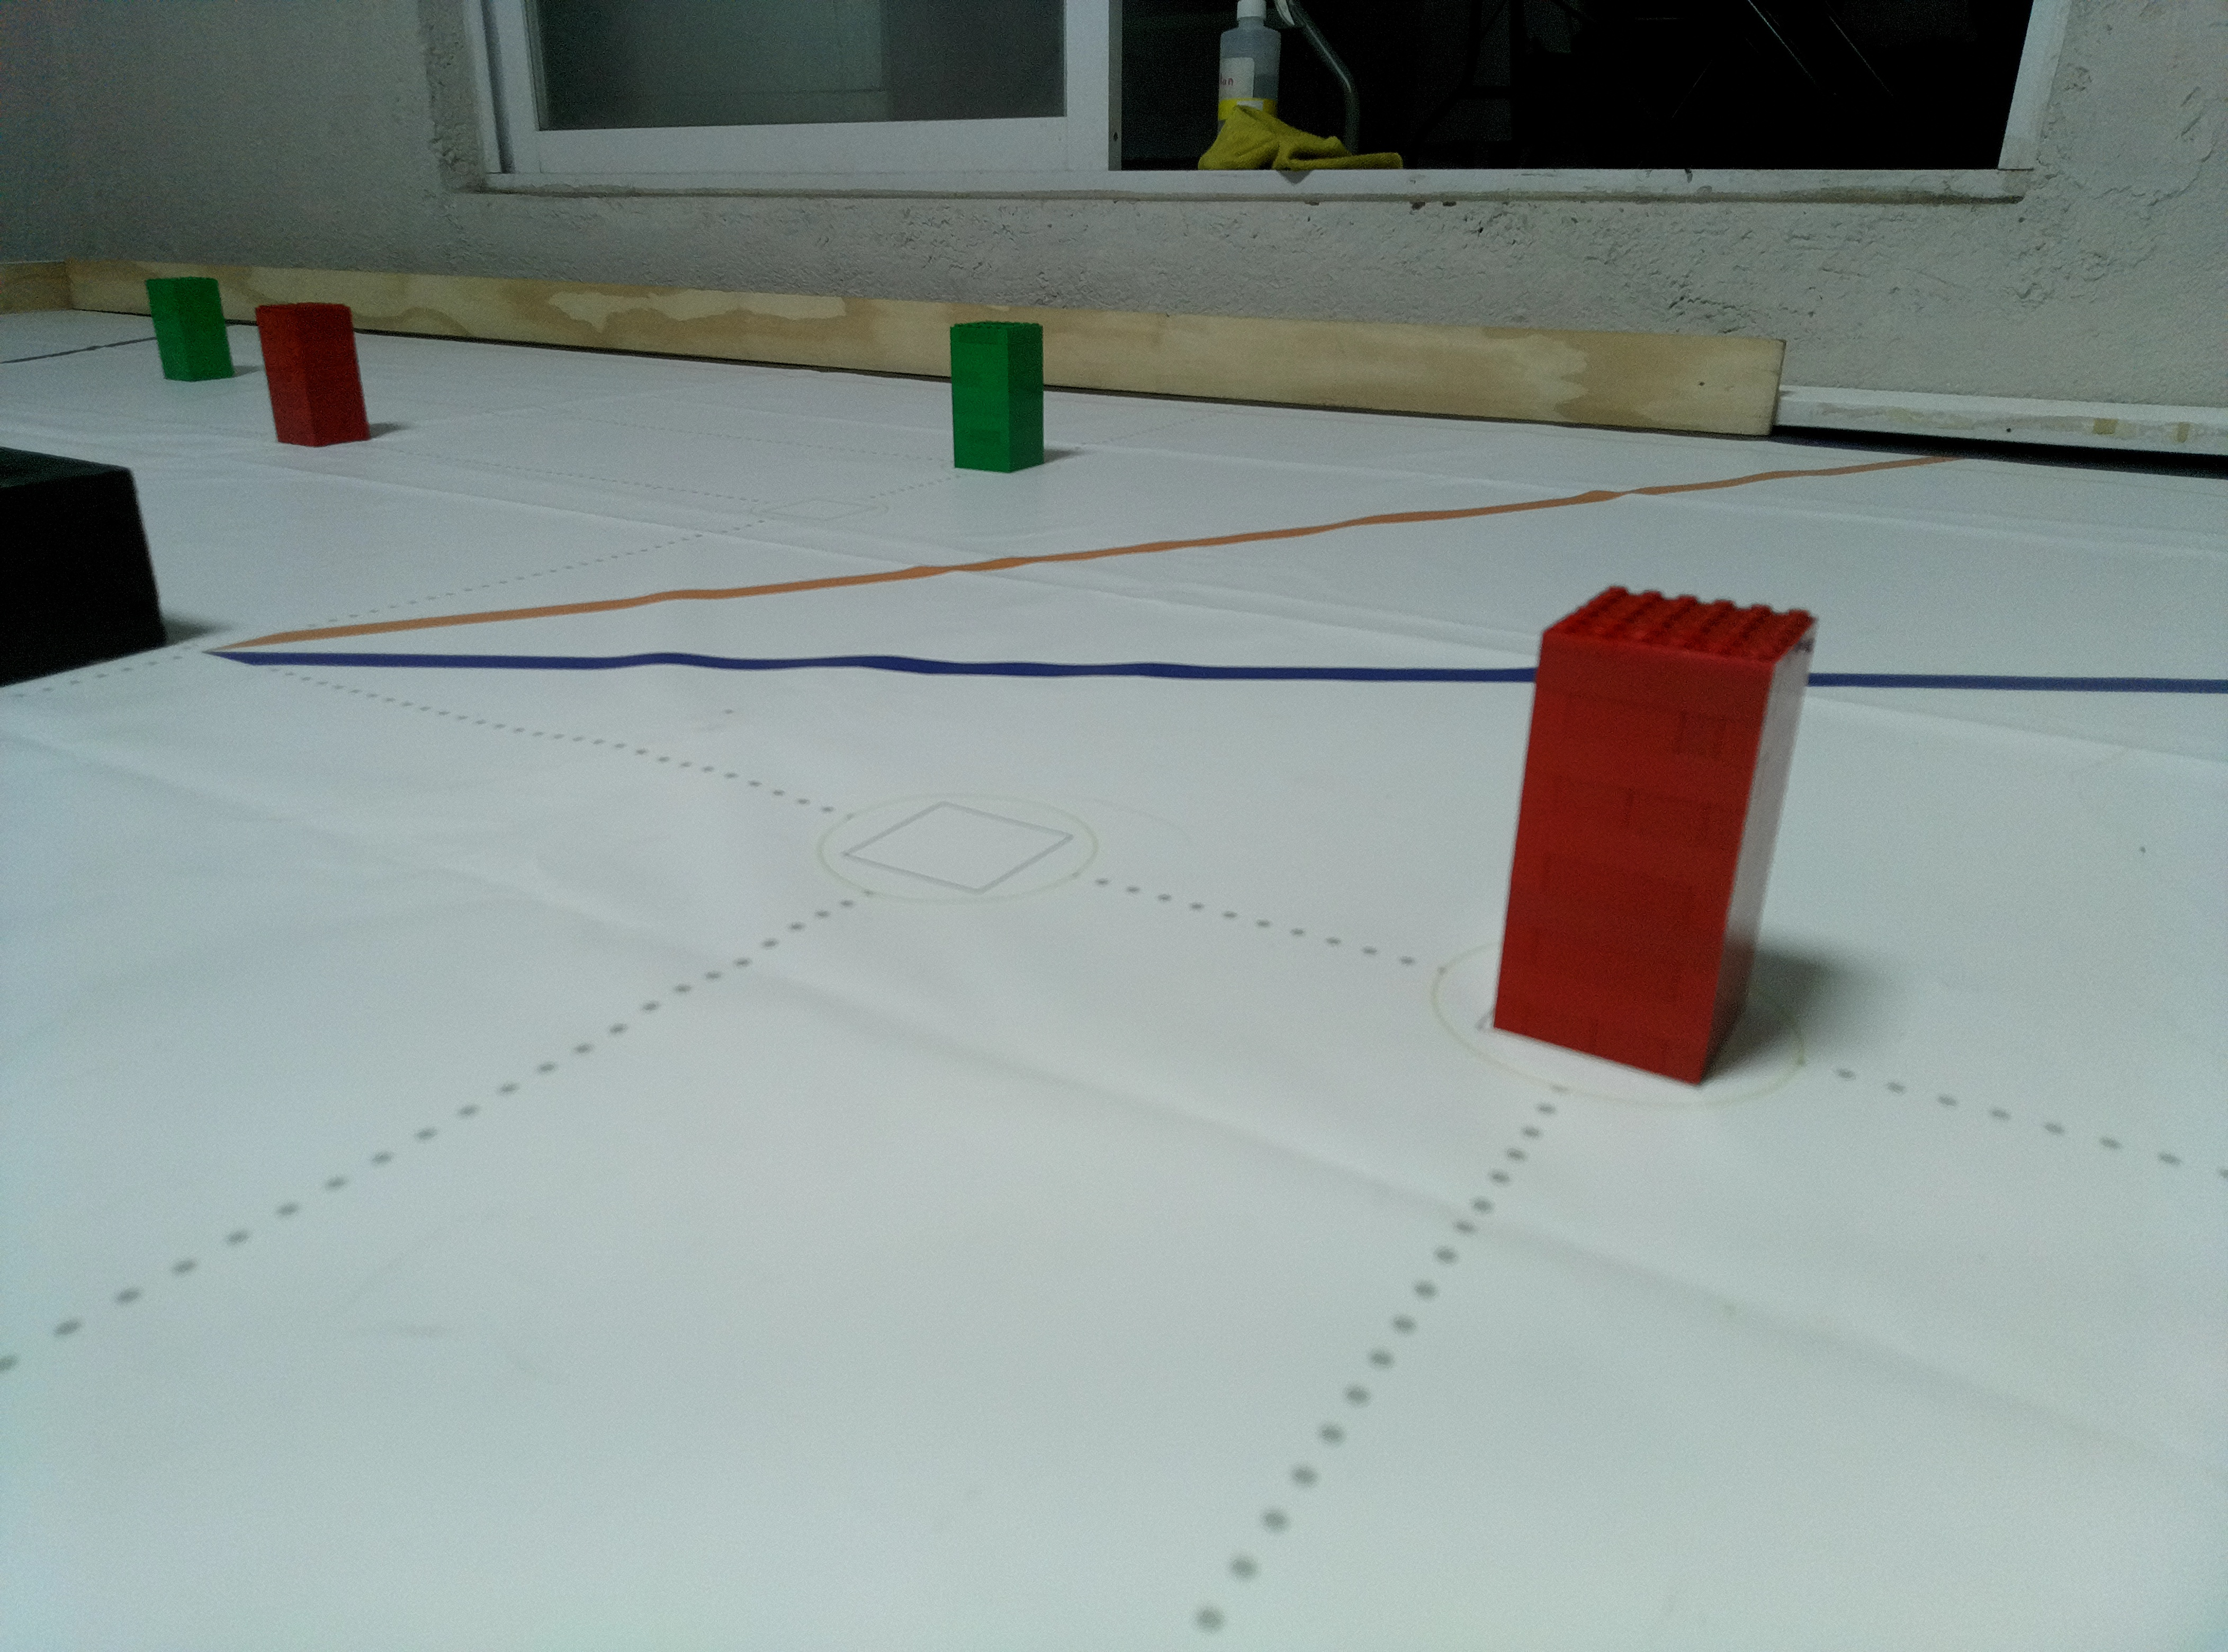greenbox: (947, 318, 1046, 474), (142, 276, 238, 385)
redbox: (1489, 576, 1827, 1098), (250, 300, 377, 449)
